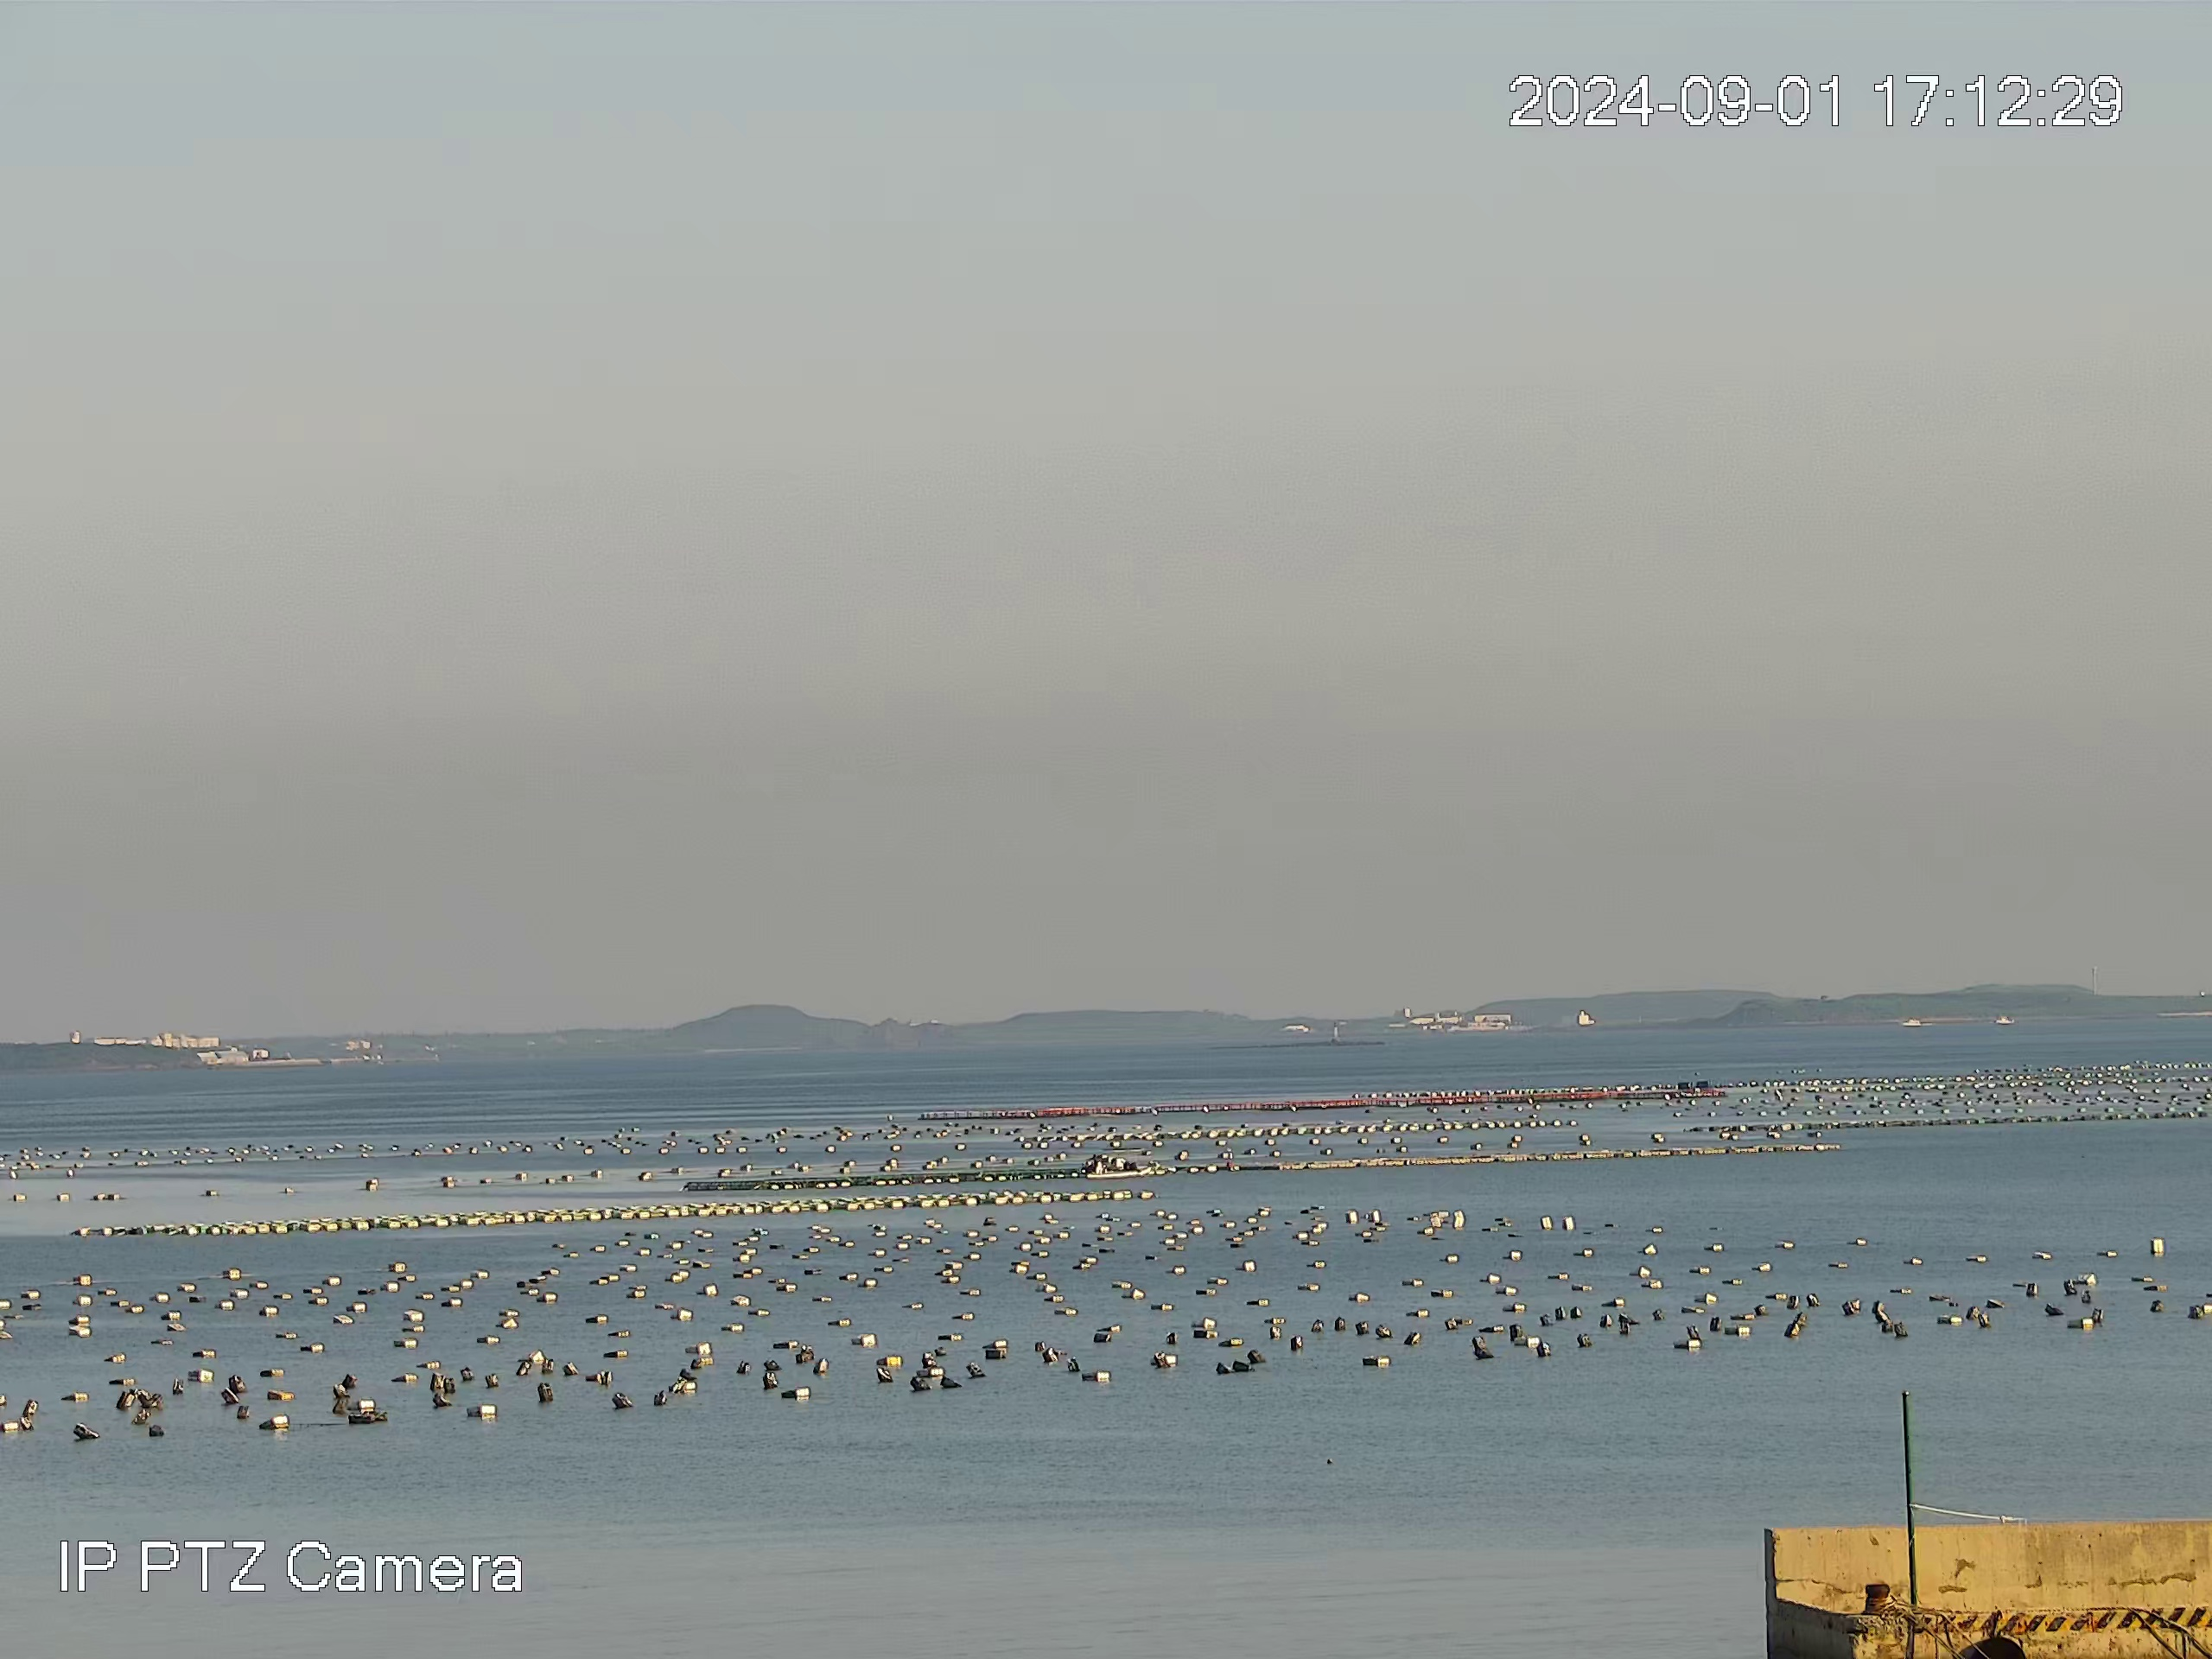boat: (1087, 1152, 1158, 1178)
